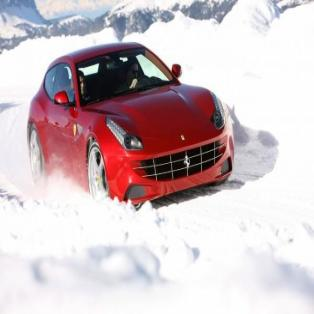Auto: (27, 41, 234, 208)
